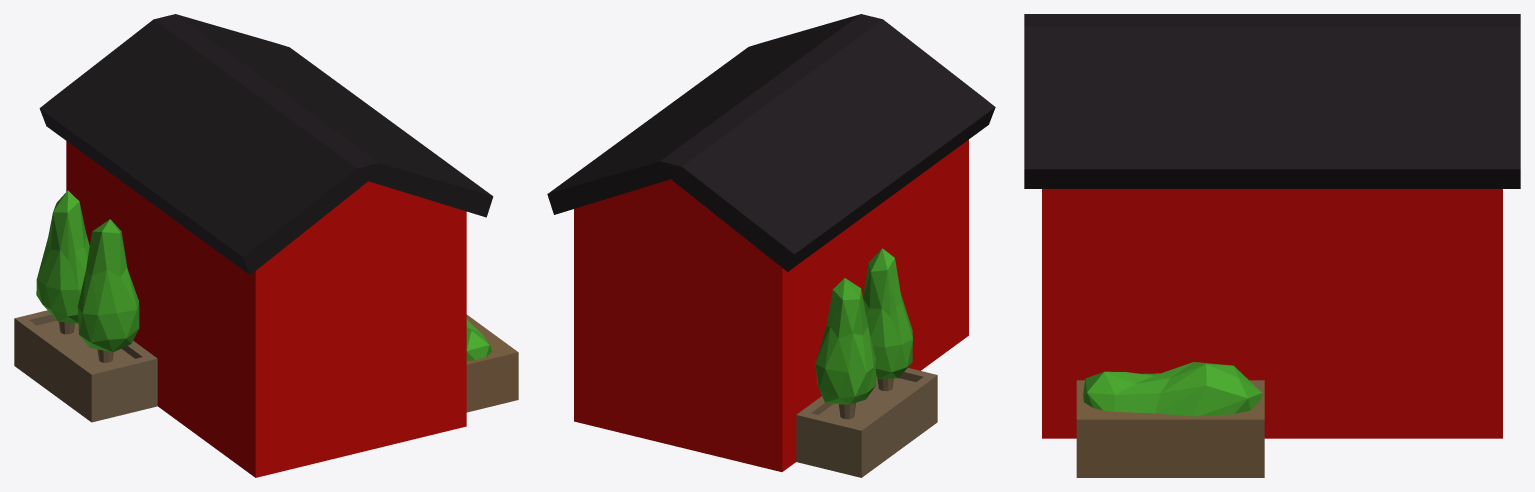
File: house1.grid.fbx
3 renders of one model, left to right at view 1: azimuth 30°, elevation 25°; view 2: azimuth 150°, elevation 25°; view 3: azimuth 270°, elevation 25°, orthographic. The views are drawn at different scales.
Visible parts, largest first — view 1: Cube.001; view 2: Cube.001; view 3: Cube.001.
Boxes of the visible parts, x1,y1,x2,y2 form: Cube.001: (14,14,518,477); Cube.001: (547,14,995,477); Cube.001: (1024,14,1520,477).
Size of the model in its own units: 287 by 233 by 295.
